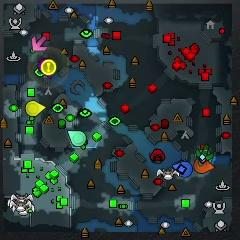Other: (41, 59, 57, 75)
p1: (172, 159, 194, 178)
p2: (67, 130, 86, 146)
p3: (37, 58, 56, 80)
p4: (25, 100, 47, 118)
p5: (193, 157, 215, 174)
x1: (31, 34, 48, 53)
x4: (194, 144, 215, 161)
